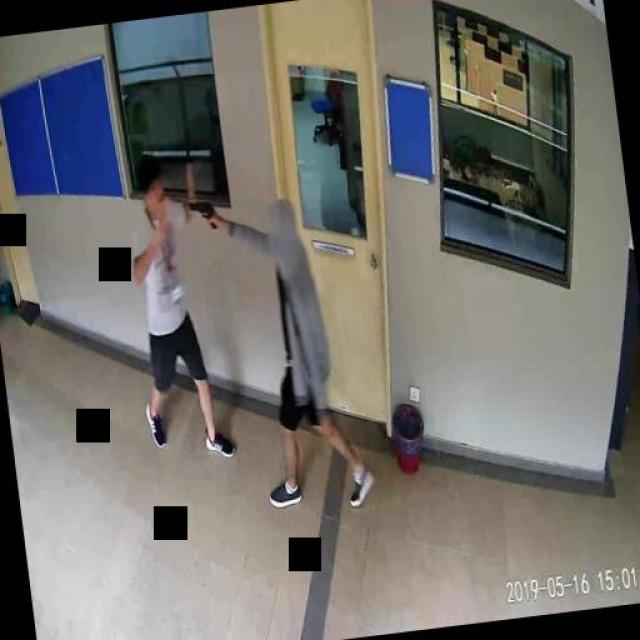gun: (186, 198, 218, 232)
